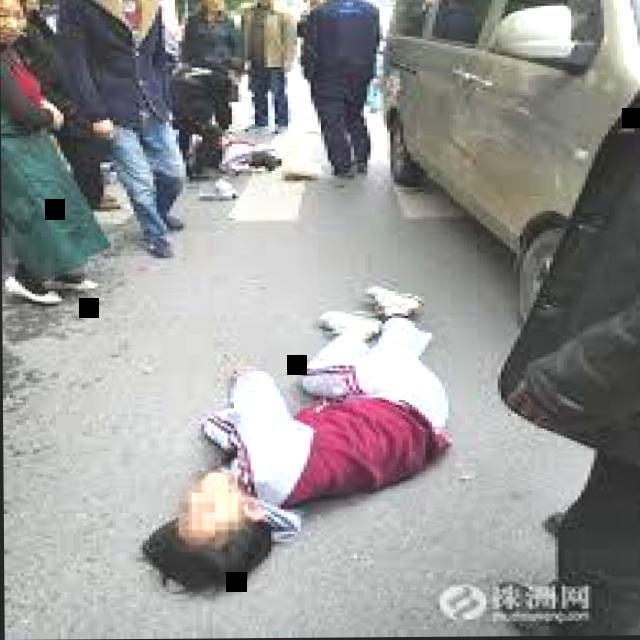Fall-Detected: (124, 259, 458, 585)
